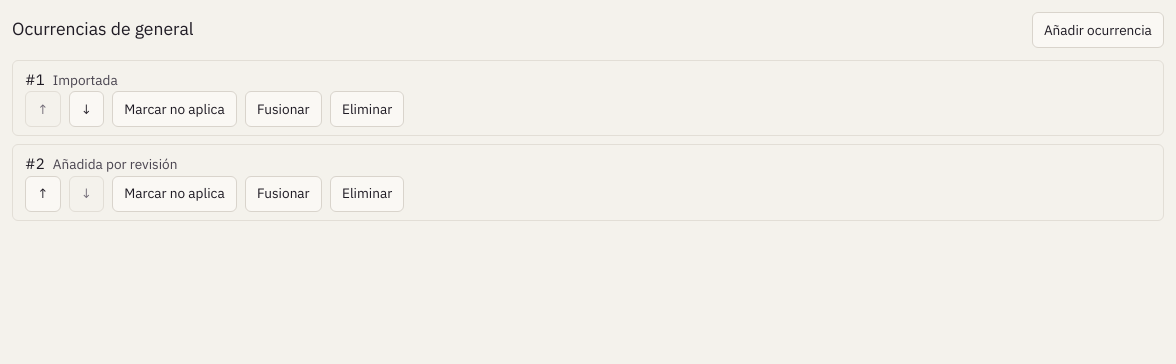
it: muestra literalmente el motivo por el que el backend rechaza una fusión
Click the button "Fusionar" below "Importada" at {"x": 283, "y": 109}, box x1=245 y1=91 x2=322 y2=127
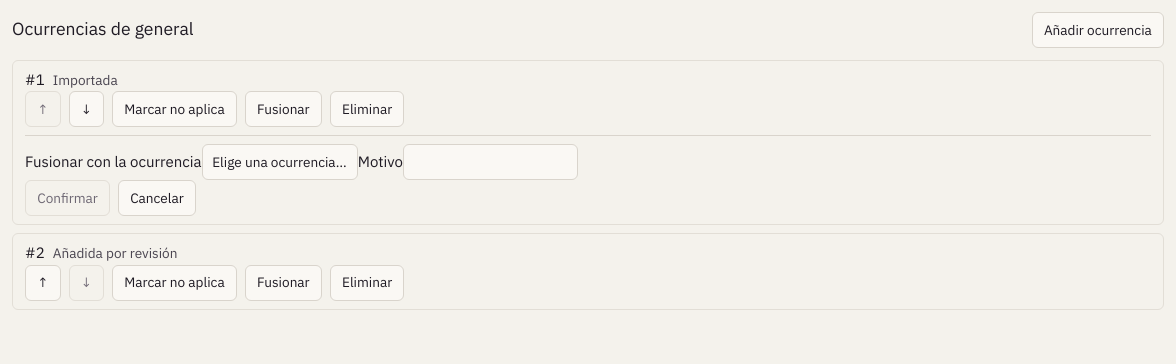
Select "#2" in the dropdown named "Ocurrencia de destino" at {"x": 280, "y": 162}, box x1=202 y1=144 x2=358 y2=180
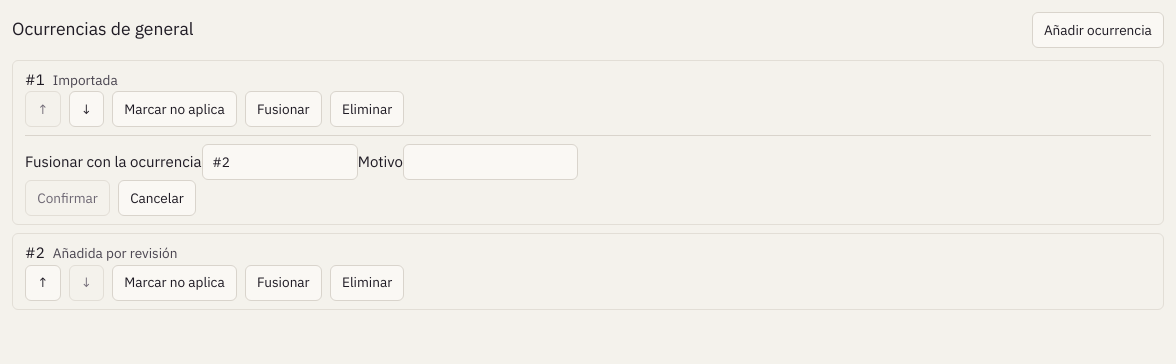
Type "Duplicadas." into the field named "Motivo de la operación" at {"x": 491, "y": 162}, box x1=403 y1=144 x2=578 y2=180
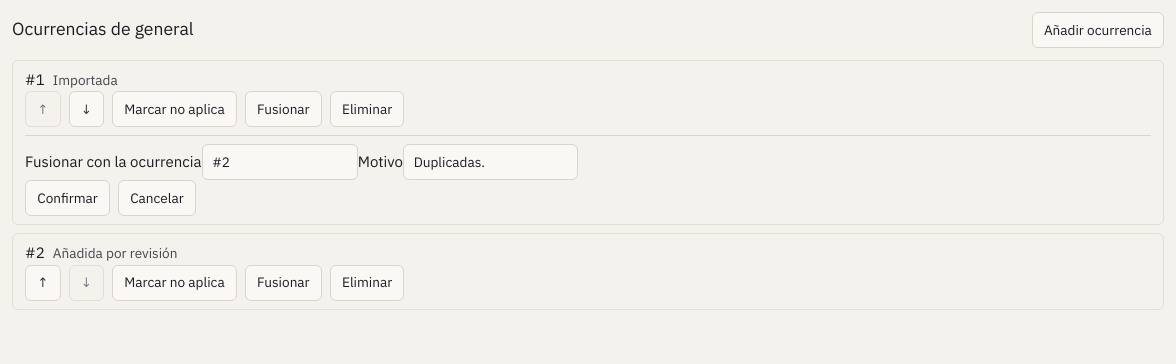
Click the button "Confirmar" at {"x": 68, "y": 198}, box x1=25 y1=180 x2=110 y2=216
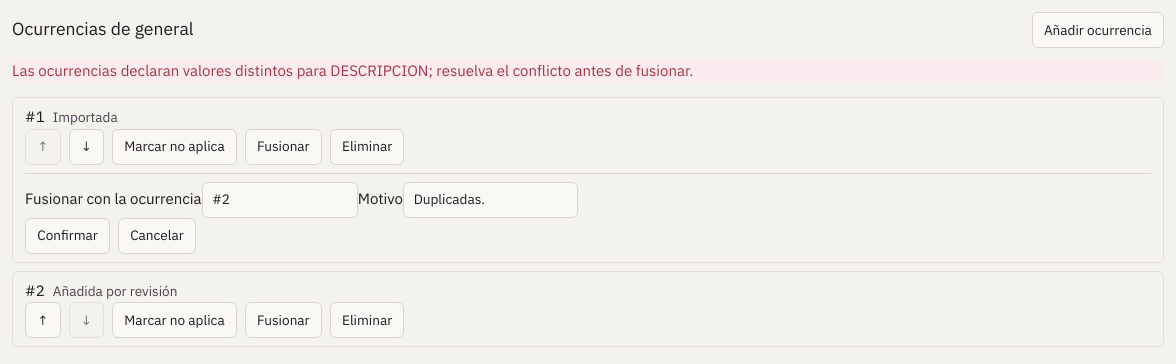
Result: the text "valores distintos para DESCRIPCION" is shown at x1=12 y1=61 x2=693 y2=80
